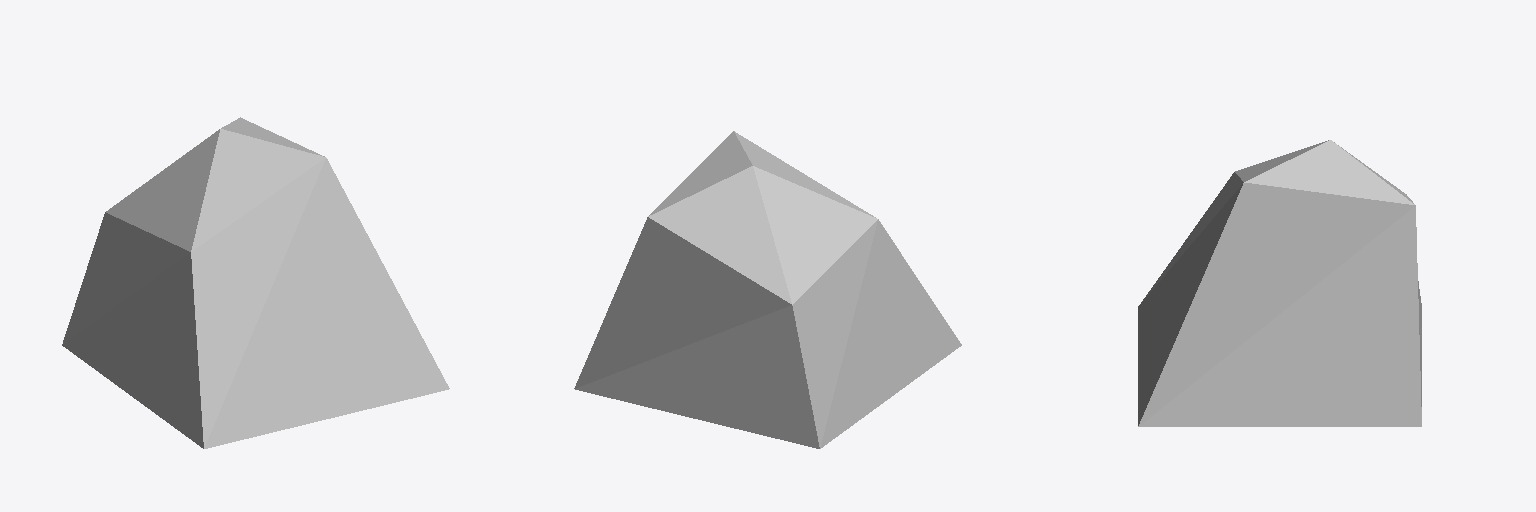
Rendered from rock_1.obj.
3 views of the same model, side by side, from view 1: azimuth 30°, elevation 25°; view 2: azimuth 150°, elevation 25°; view 3: azimuth 270°, elevation 25° (orthographic).
Visible parts, largest first — view 1: rock1_Cube; view 2: rock1_Cube; view 3: rock1_Cube.
Boxes of the visible parts, <box> form: rock1_Cube: <box>62,117,449,448</box>; rock1_Cube: <box>574,131,961,448</box>; rock1_Cube: <box>1138,140,1421,426</box>.
Bounding box in the file's own units: 2.26 × 1.96 × 2.26.